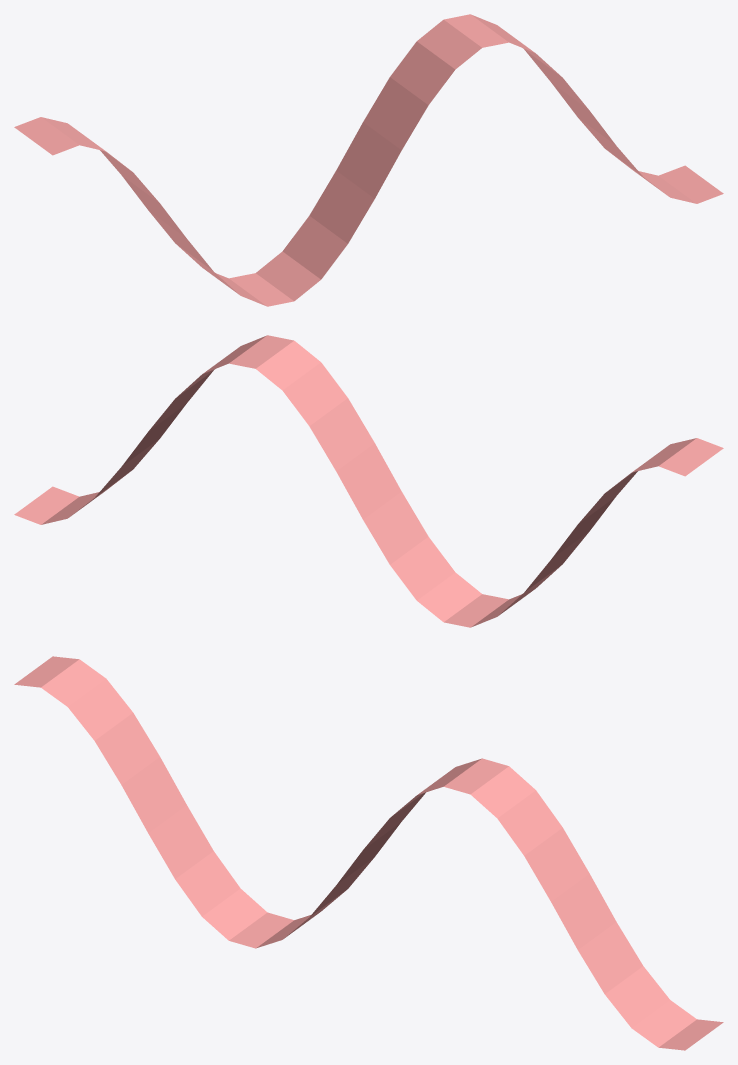
Rendered from 3d_asset_pipeline.glb.
The picture shows the model from 3 angles, top to bottom: view 1: azimuth 30°, elevation 25°; view 2: azimuth 150°, elevation 25°; view 3: azimuth 330°, elevation 25°; orthographic projection.
Parts seen in each view (by area): view 1: ribbon; view 2: ribbon; view 3: ribbon.
Part boxes in pixels (x1,y1,x2,y2): ribbon: (14, 14, 723, 306); ribbon: (14, 335, 723, 627); ribbon: (14, 656, 723, 1050).
Bounding box in the file's own units: 0.2 × 0.0596 × 0.02.
